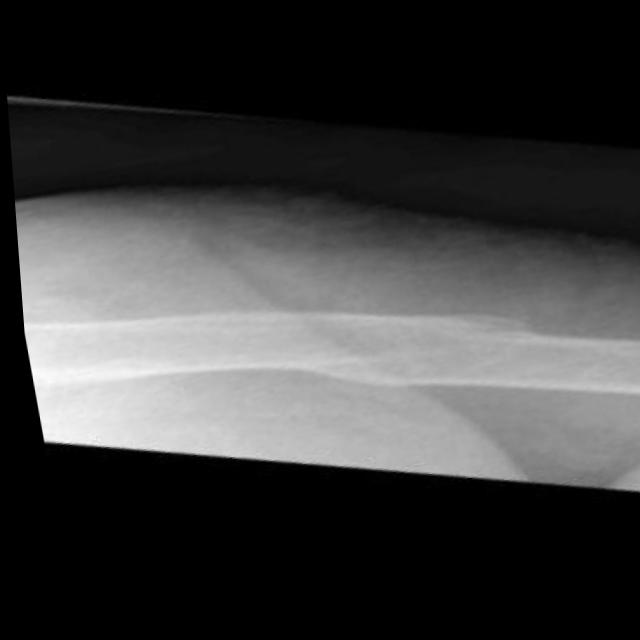fracture: (284, 295, 552, 413)
